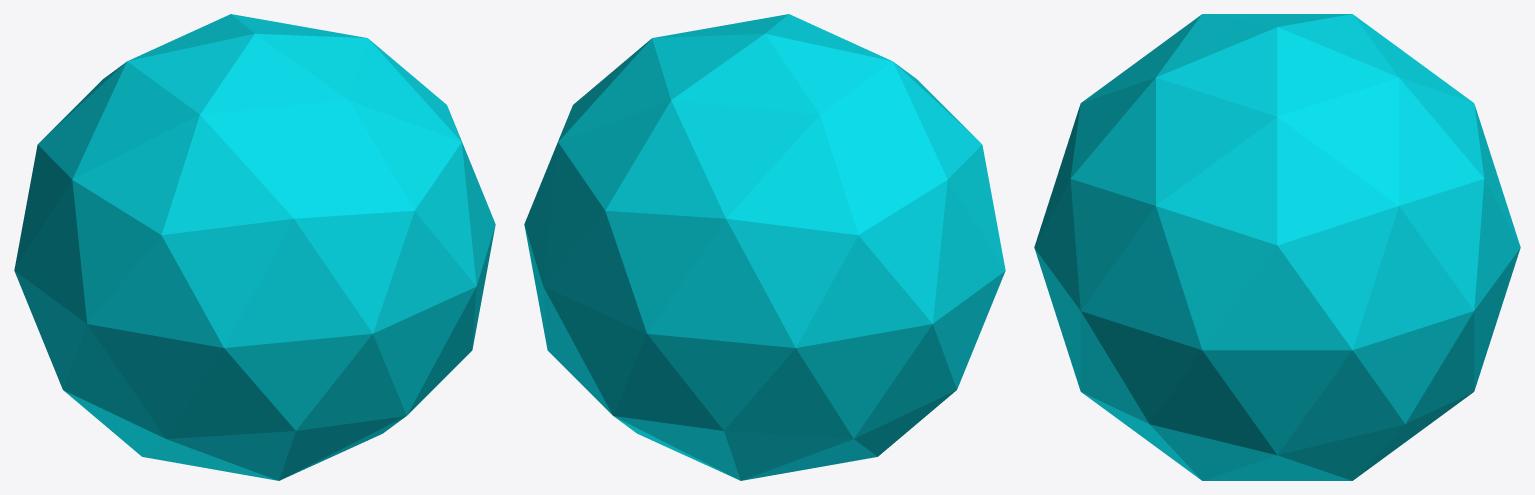
Rendered from BounceBall.fbx.
The picture shows the model from 3 angles, left to right: view 1: azimuth 30°, elevation 25°; view 2: azimuth 150°, elevation 25°; view 3: azimuth 270°, elevation 25°; orthographic projection. The views are drawn at different scales.
Parts seen in each view (by area): view 1: 棱角球; view 2: 棱角球; view 3: 棱角球.
Part boxes in pixels (bbox=[...]): 棱角球: bbox=[14, 14, 495, 480]; 棱角球: bbox=[524, 14, 1005, 480]; 棱角球: bbox=[1034, 14, 1520, 480].
Size of the model in its own units: 20 by 20 by 20.
